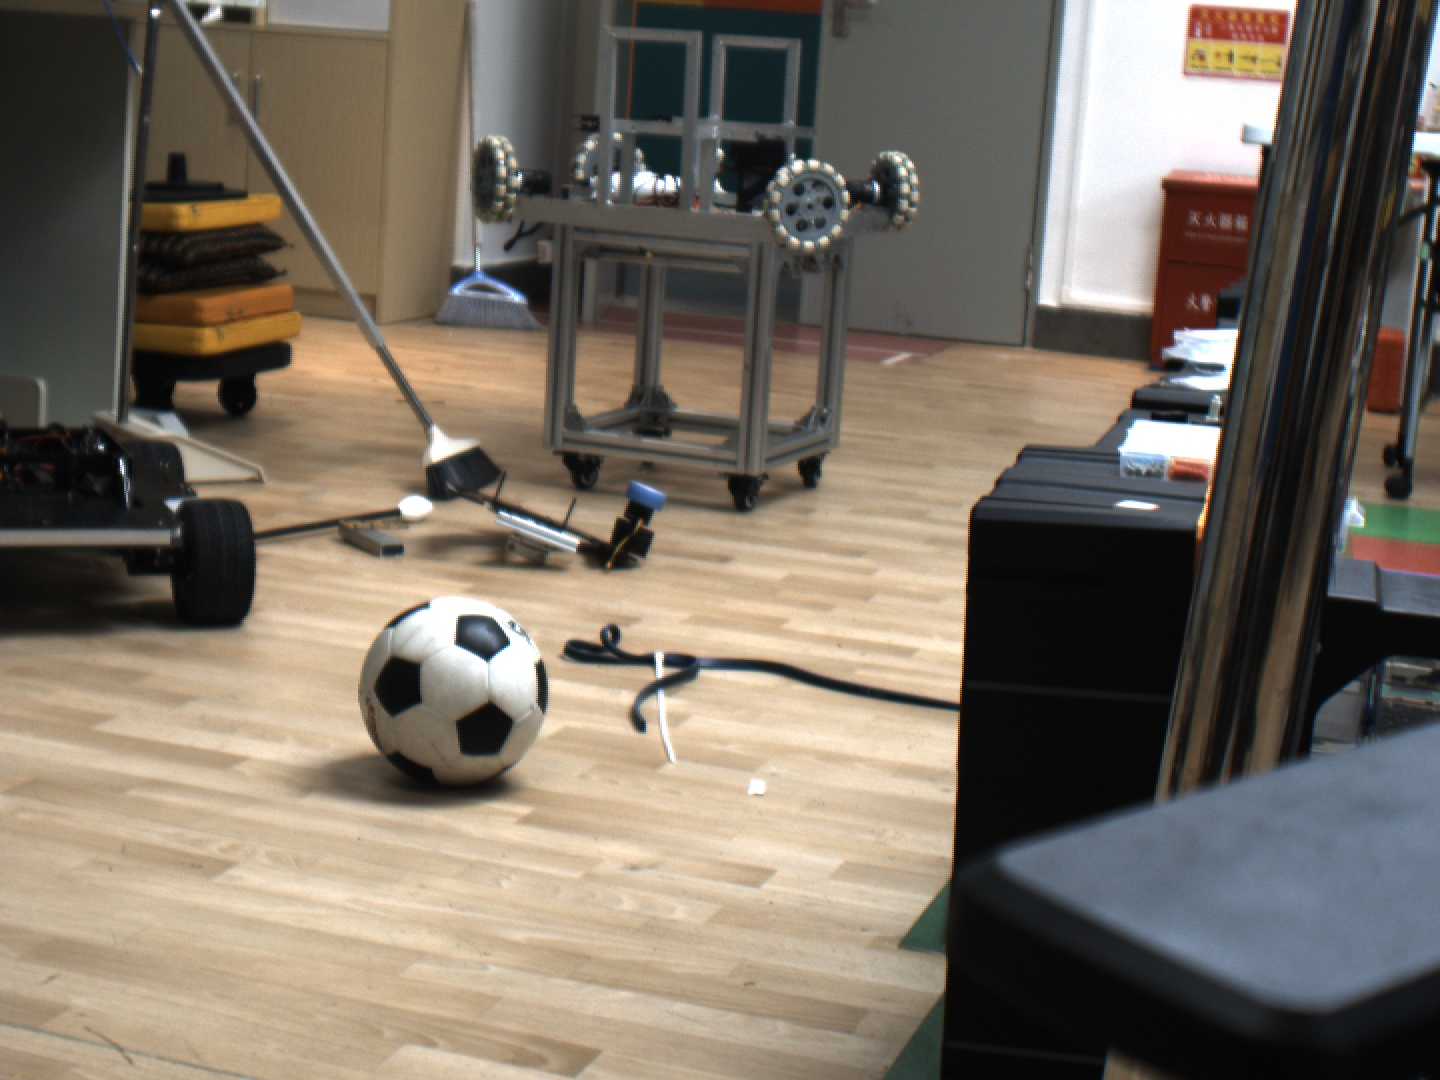ball: (336, 581, 586, 809)
